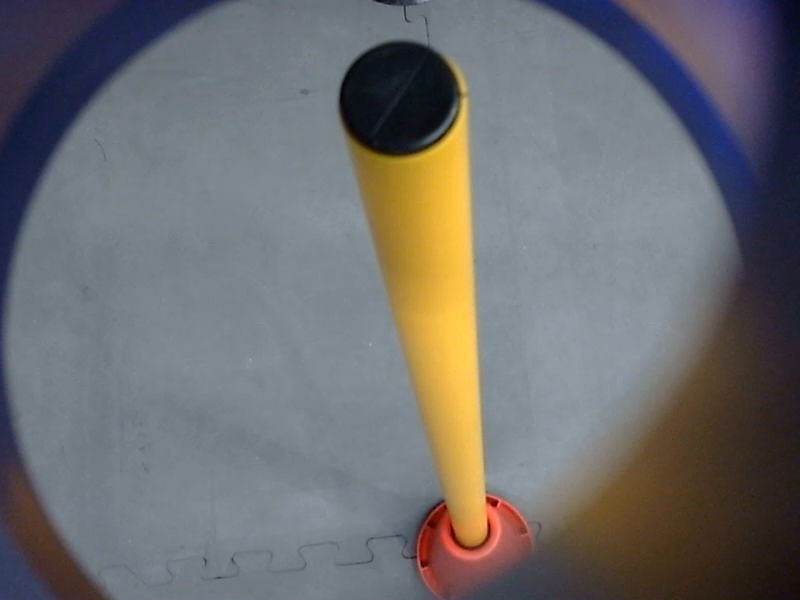tip: (329, 30, 475, 173)
